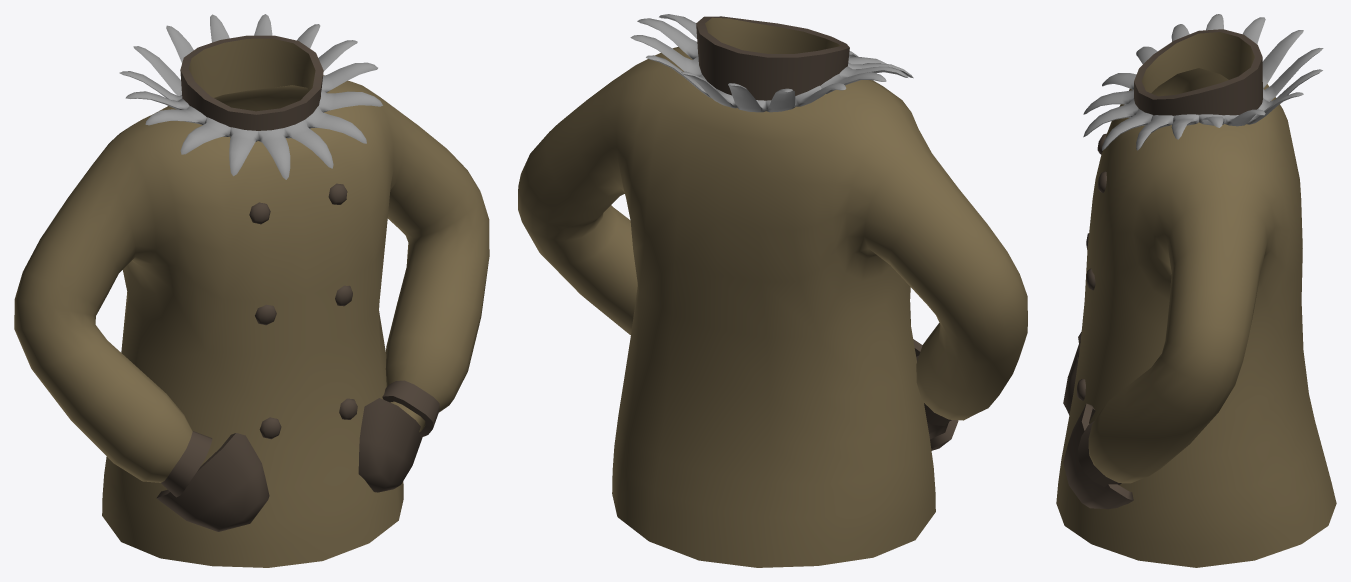
The model's file is jacket_brown.fbx.
3 renders of one model, left to right at view 1: azimuth 30°, elevation 25°; view 2: azimuth 150°, elevation 25°; view 3: azimuth 270°, elevation 25°, orthographic. The views are drawn at different scales.
Parts seen in each view (by area): view 1: jacket_1_brown; view 2: jacket_1_brown; view 3: jacket_1_brown.
Part boxes in pixels (x1=…): jacket_1_brown: x1=14, y1=14, x2=489, y2=567; jacket_1_brown: x1=518, y1=14, x2=1027, y2=567; jacket_1_brown: x1=1056, y1=14, x2=1336, y2=567.
Bounding box in the file's own units: 0.6318 × 0.3296 × 0.5819.
